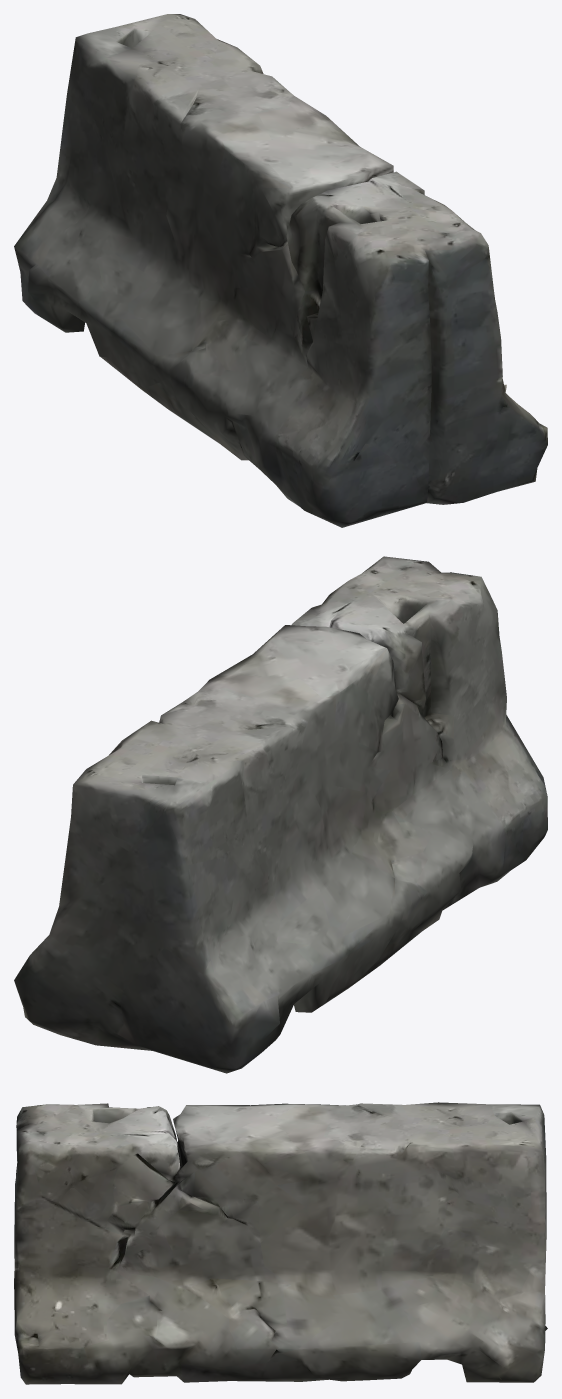
The model's file is e_barrier.glb.
The picture shows the model from 3 angles, top to bottom: view 1: azimuth 30°, elevation 25°; view 2: azimuth 150°, elevation 25°; view 3: azimuth 270°, elevation 25°; orthographic projection. The views are drawn at different scales.
Parts seen in each view (by area): view 1: tripo_node_12c1f07a-c9e7-4a18-bd86-ed2b9727b6dd; view 2: tripo_node_12c1f07a-c9e7-4a18-bd86-ed2b9727b6dd; view 3: tripo_node_12c1f07a-c9e7-4a18-bd86-ed2b9727b6dd.
Boxes of the visible parts, <box> form: tripo_node_12c1f07a-c9e7-4a18-bd86-ed2b9727b6dd: <box>14,14,547,527</box>; tripo_node_12c1f07a-c9e7-4a18-bd86-ed2b9727b6dd: <box>14,556,547,1073</box>; tripo_node_12c1f07a-c9e7-4a18-bd86-ed2b9727b6dd: <box>14,1102,547,1384</box>.
Size of the model in its own units: 0.453 by 0.4565 by 1.
Materials: 1 (1 with a texture image).
